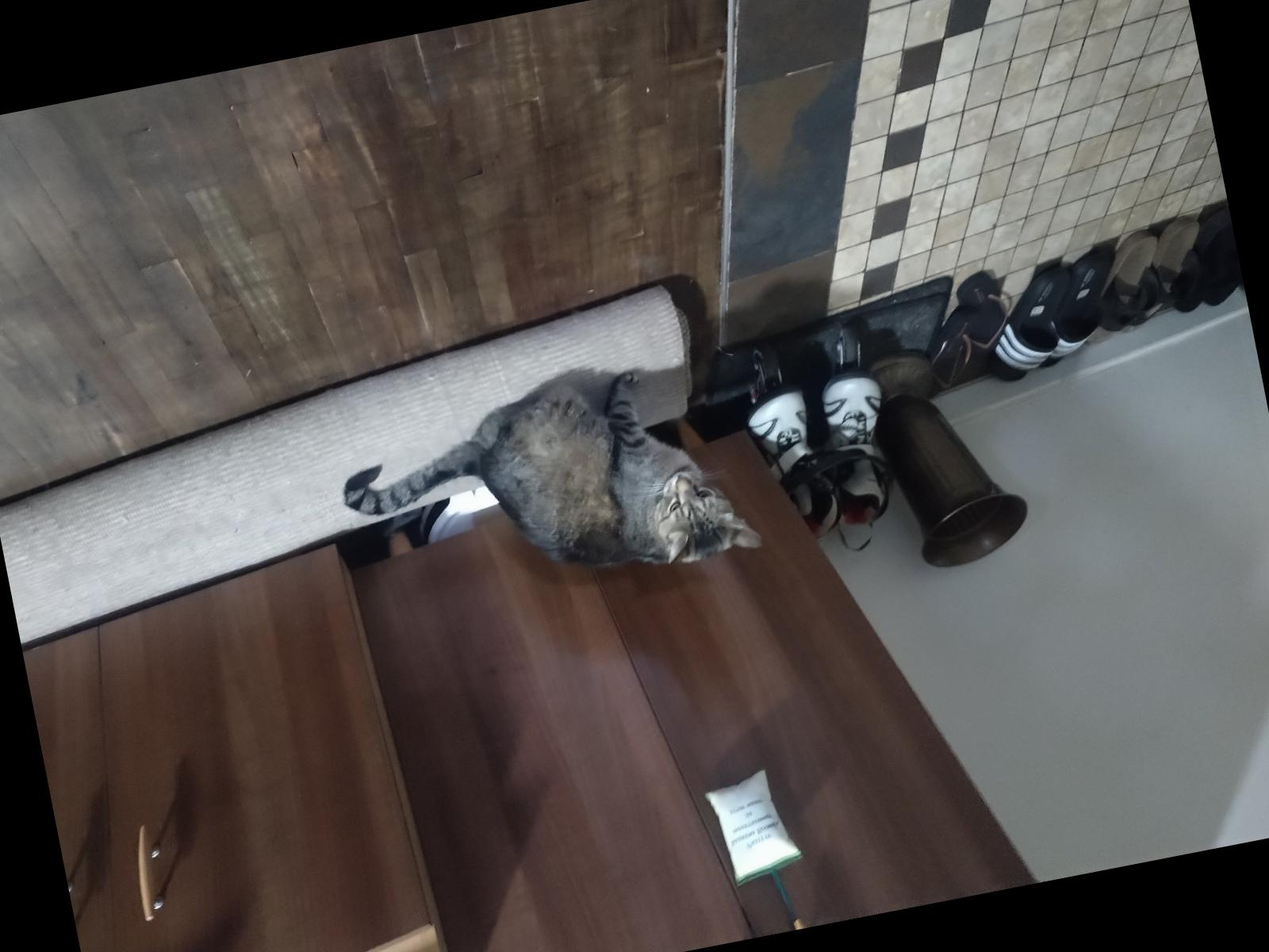macka: (331, 348, 766, 627)
